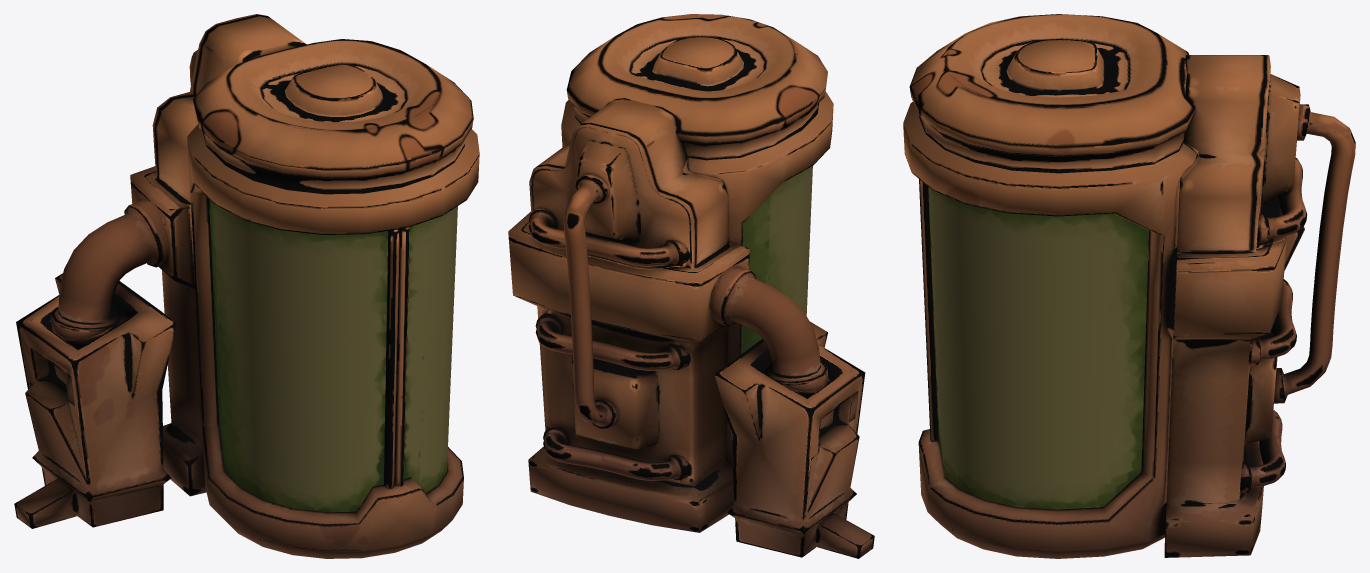
Rendered from Cryopod.fbx.
3 renders of one model, left to right at view 1: azimuth 30°, elevation 25°; view 2: azimuth 150°, elevation 25°; view 3: azimuth 270°, elevation 25°, orthographic. The views are drawn at different scales.
Parts seen in each view (by area): view 1: Cryopod; view 2: Cryopod; view 3: Cryopod.
Part boxes in pixels (bbox=[...]): Cryopod: bbox=[14, 14, 479, 558]; Cryopod: bbox=[508, 14, 874, 558]; Cryopod: bbox=[903, 14, 1355, 558].
Bounding box in the file's own units: 322 × 358 × 323.
